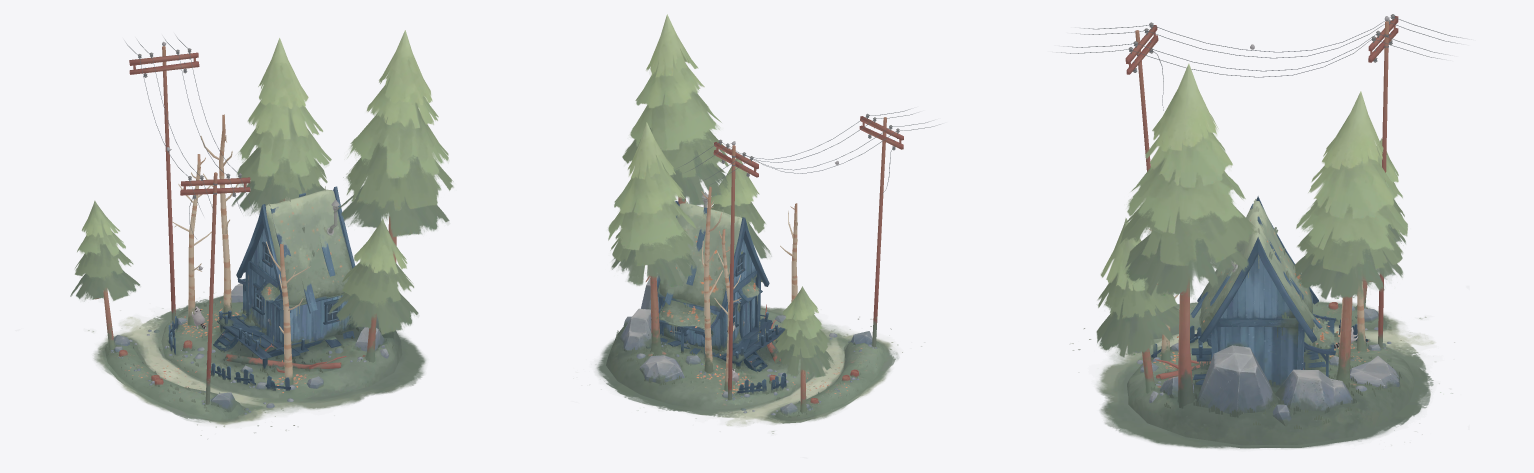
The model's file is house-transformed.glb.
3 renders of one model, left to right at view 1: azimuth 30°, elevation 25°; view 2: azimuth 150°, elevation 25°; view 3: azimuth 270°, elevation 25°, orthographic. The views are drawn at different scales.
Visible parts, largest first — view 1: RedwoodAlpha, Ground, GroundPlane, RoofMoss, House, Powerlines, Rocks, HouseWoodFloor, BTree.001, BTree, BTree.002, Grass.Ground (+5 smaller); view 2: RedwoodAlpha, Ground, GroundPlane, Powerlines, RoofMoss, House, Rocks, BTree.001, SideRoofBase, HouseWoodFloor, Redwood, Grass.Ground (+4 smaller); view 3: RedwoodAlpha, Ground, Rocks, House, GroundPlane, Powerlines, RoofMoss, Redwood, Grass.Ground, SideRoofBase, Roof.009, HouseWoodFloor (+2 smaller).
Boxes of the visible parts, x1,y1,x2,y2 form: RedwoodAlpha: [70, 30, 453, 335]; Ground: [105, 296, 402, 419]; GroundPlane: [88, 292, 426, 439]; RoofMoss: [265, 189, 351, 305]; House: [236, 186, 355, 346]; Powerlines: [129, 46, 250, 404]; Rocks: [113, 283, 385, 411]; HouseWoodFloor: [217, 313, 354, 359]; BTree.001: [200, 114, 237, 316]; BTree: [266, 241, 310, 385]; BTree.002: [172, 154, 211, 325]; Grass.Ground: [107, 295, 394, 412]; RedwoodAlpha: [608, 14, 834, 377]; Ground: [606, 308, 884, 423]; GroundPlane: [595, 305, 924, 433]; Powerlines: [713, 113, 903, 399]; RoofMoss: [659, 203, 742, 306]; House: [657, 201, 769, 350]; Rocks: [619, 275, 872, 416]; BTree.001: [701, 186, 722, 372]; SideRoofBase: [651, 300, 718, 334]; HouseWoodFloor: [660, 318, 785, 362]; Redwood: [645, 195, 806, 413]; Grass.Ground: [613, 317, 881, 417]; RedwoodAlpha: [1096, 63, 1407, 358]; Ground: [1127, 302, 1415, 448]; Rocks: [1140, 306, 1400, 426]; House: [1197, 196, 1318, 386]; GroundPlane: [1069, 300, 1454, 448]; Powerlines: [1125, 14, 1398, 347]; RoofMoss: [1199, 201, 1314, 330]; Redwood: [1142, 275, 1372, 406]; Grass.Ground: [1150, 303, 1401, 429]; SideRoofBase: [1304, 314, 1335, 355]; Roof.009: [1190, 203, 1322, 328]; HouseWoodFloor: [1191, 336, 1325, 385].
Bounding box in the file's own units: 5.68 × 5.64 × 6.93.
Materials: 12 (12 with a texture image).
